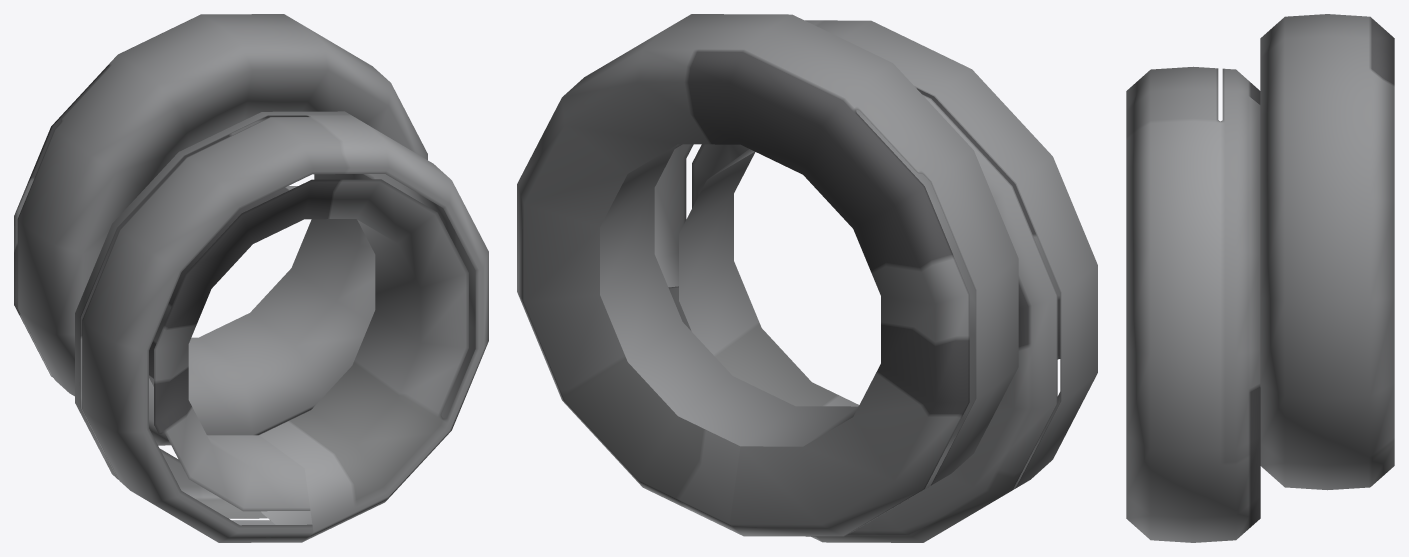
3 views of the same model, side by side, from view 1: azimuth 30°, elevation 25°; view 2: azimuth 150°, elevation 25°; view 3: azimuth 270°, elevation 25° (orthographic). The views are drawn at different scales.
Size of the model in its own units: 0.8629 by 0.99 by 0.496.
